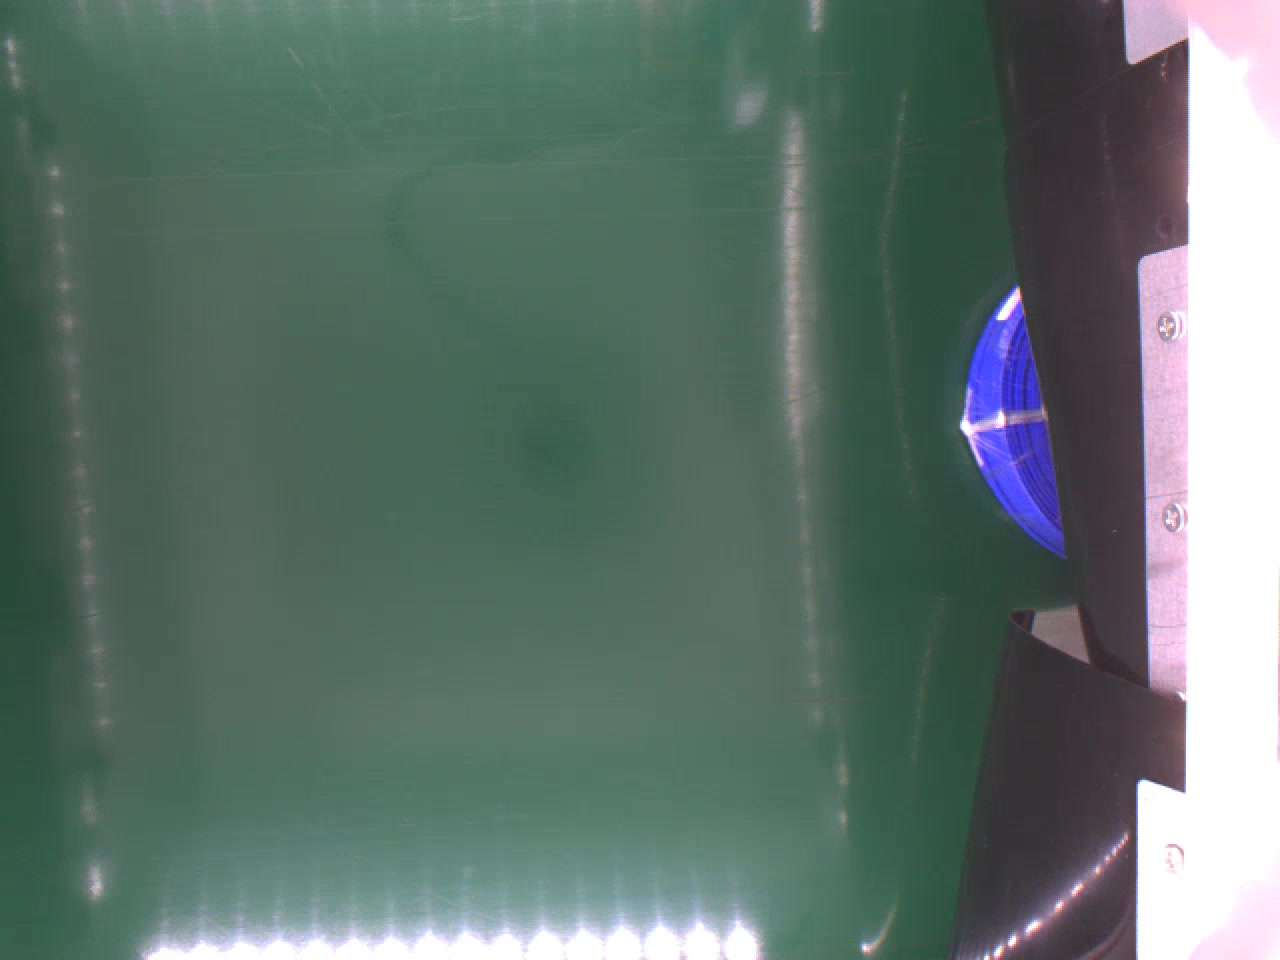blue: (957, 283, 1070, 556)
